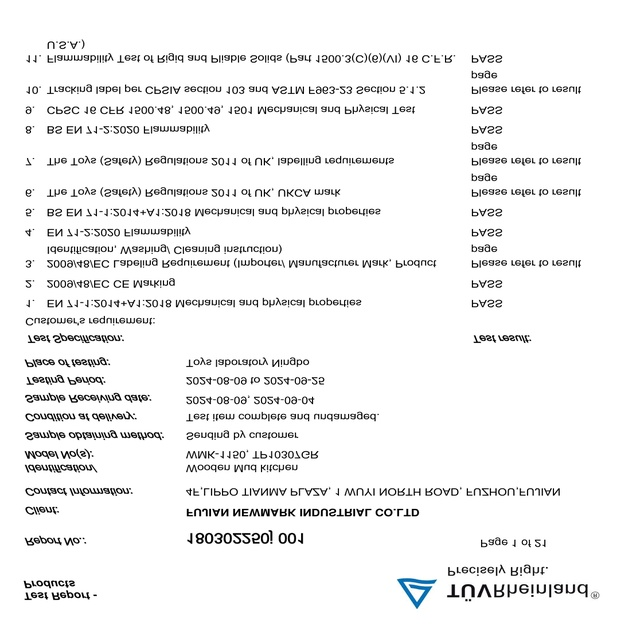tuv_rheinland: (393, 574, 603, 610)
